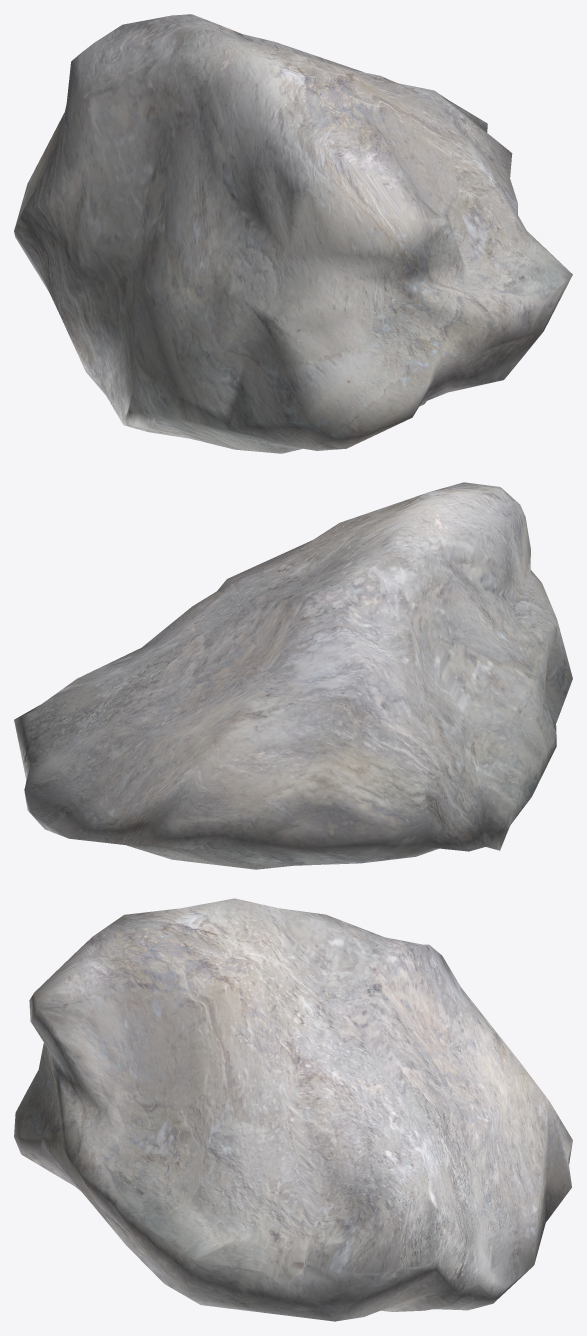
File: rock_00H_lp_2k.fbx
3 renders of one model, top to bottom at view 1: azimuth 30°, elevation 25°; view 2: azimuth 150°, elevation 25°; view 3: azimuth 270°, elevation 25°, orthographic. The views are drawn at different scales.
Parts seen in each view (by area): view 1: rock_00H_lp_2k; view 2: rock_00H_lp_2k; view 3: rock_00H_lp_2k.
Boxes of the visible parts, x1,y1,x2,y2 form: rock_00H_lp_2k: (14,14,572,453); rock_00H_lp_2k: (14,482,572,869); rock_00H_lp_2k: (14,898,572,1321).
Size of the model in its own units: 124 by 97.93 by 152.
